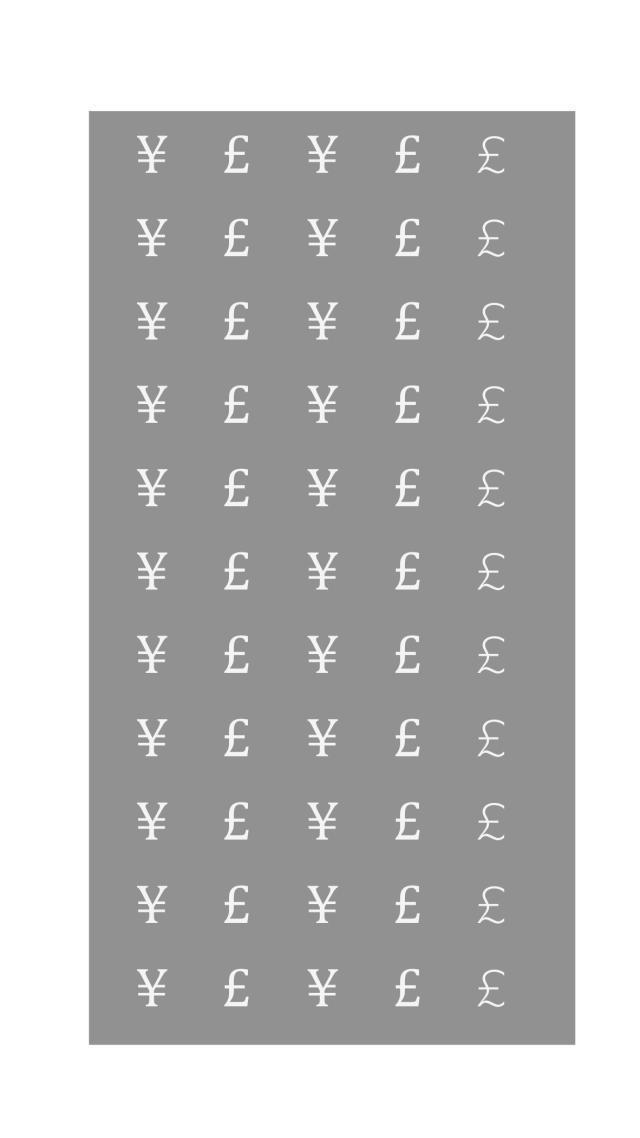ASCII: (469, 376, 514, 435), (134, 874, 172, 934), (305, 793, 343, 853), (134, 794, 172, 853), (304, 542, 344, 598), (133, 377, 172, 434), (304, 292, 343, 349), (134, 291, 172, 349), (134, 460, 172, 518), (304, 378, 343, 434), (305, 708, 343, 765), (134, 209, 172, 266), (305, 209, 343, 266), (305, 876, 343, 933), (134, 709, 172, 765), (134, 543, 172, 598), (305, 462, 343, 517), (134, 628, 172, 683), (472, 545, 510, 600), (218, 296, 254, 354), (305, 628, 343, 682), (134, 958, 172, 1012), (218, 212, 254, 268), (218, 795, 254, 850), (391, 297, 425, 354), (390, 876, 424, 932), (473, 298, 512, 346), (390, 212, 424, 267), (219, 461, 253, 516), (390, 795, 424, 850), (219, 876, 253, 931), (220, 712, 253, 768), (304, 130, 342, 178), (220, 628, 253, 683), (220, 547, 253, 602), (218, 128, 252, 181), (131, 132, 170, 178), (392, 628, 424, 684), (392, 713, 424, 769), (391, 461, 424, 515), (391, 380, 424, 434), (220, 380, 253, 434), (393, 129, 426, 182), (472, 632, 509, 679), (390, 964, 427, 1011), (392, 548, 424, 602), (474, 718, 512, 763), (220, 964, 252, 1017), (304, 963, 340, 1010), (475, 464, 510, 512), (476, 132, 509, 182), (474, 217, 512, 260), (475, 882, 510, 928), (477, 966, 509, 1016), (474, 800, 509, 844)
